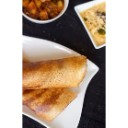dosa: (23, 57, 88, 122)
